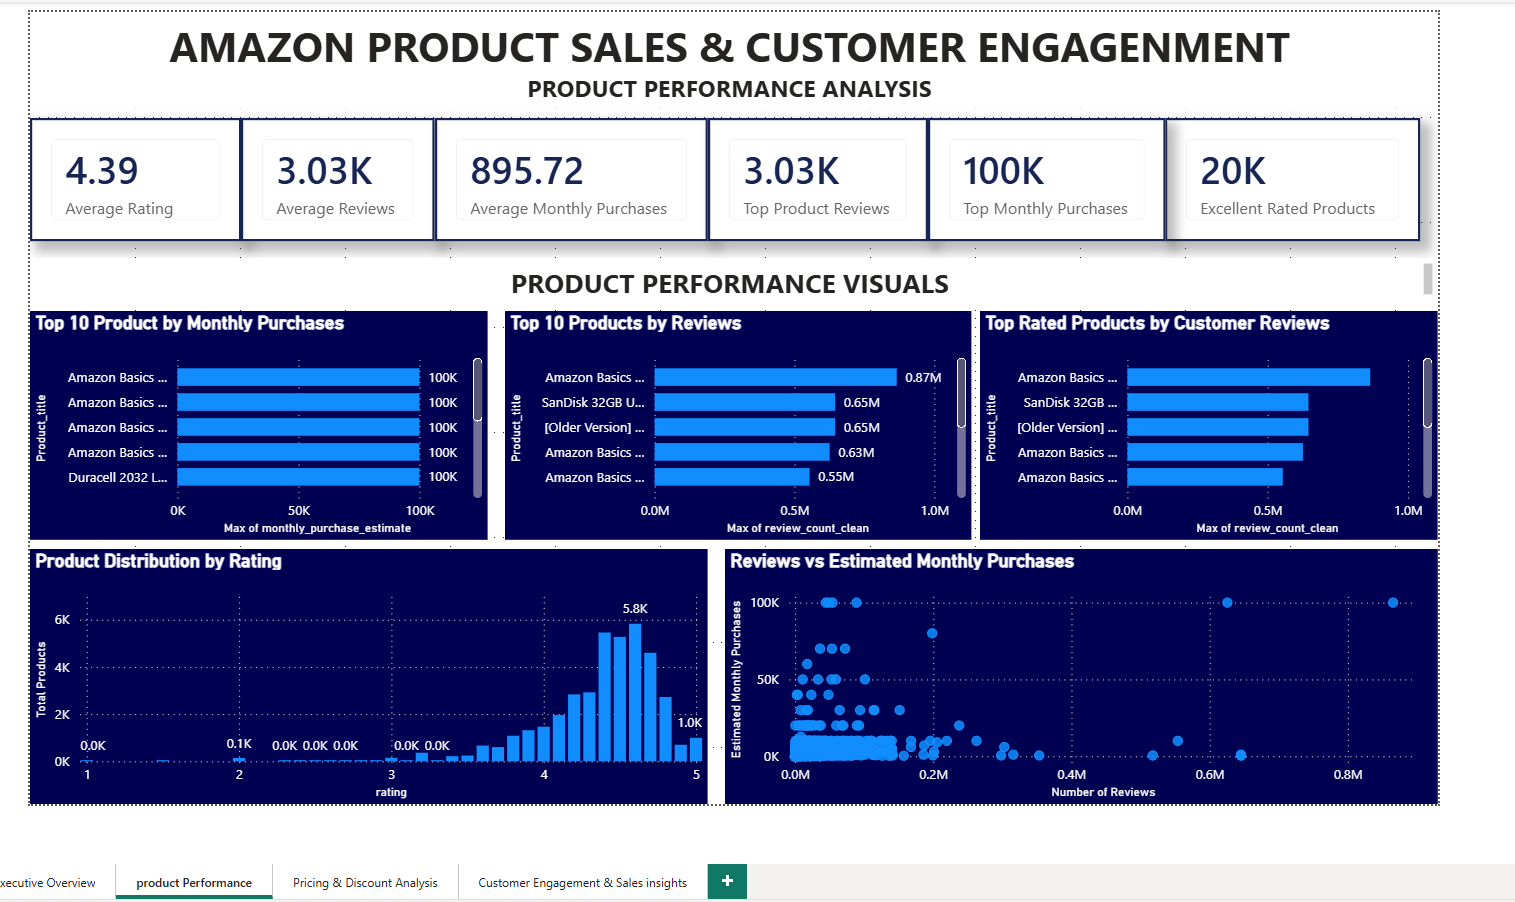

The dashboard page shown, as its layout file describes it:
{"tool":"powerbi","page":{"name":"product Performance ","canvas":[1280,720],"ordinal":1},"visuals":[{"type":"cardVisual","fields":{"Data":["Final clean sheet.Average Rating"]},"box":[0,96,192,112],"z":0},{"type":"cardVisual","fields":{"Data":["Final clean sheet.Average Reviews"]},"box":[192,96,176,112],"z":1000},{"type":"cardVisual","fields":{"Data":["Final clean sheet.Average Monthly Purchases"]},"box":[368,96,248,112],"z":2000},{"type":"cardVisual","fields":{"Data":["Final clean sheet.Top Product Reviews"]},"box":[616,96,200,112],"z":3000},{"type":"cardVisual","fields":{"Data":["Final clean sheet.Excellent Rated Products"]},"box":[1032,96,232,112],"z":4000},{"type":"cardVisual","fields":{"Data":["Final clean sheet.Top Monthly Purchases"]},"box":[816,96,216,112],"z":5000},{"type":"textbox","box":[0,0,1272,88],"z":6000},{"type":"textbox","box":[0,224,1280,40],"z":7000},{"type":"clusteredBarChart","title":"Top 10 Product by Monthly Purchases","fields":{"Category":["Final clean sheet.Product_title"],"Y":["Max(Final clean sheet.monthly_purchase_estimate)"]},"box":[0,272,416,208],"z":8000},{"type":"clusteredBarChart","title":"Top 10 Products by Reviews","fields":{"Category":["Final clean sheet.Product_title"],"Y":["Max(Final clean sheet.review_count_clean)"]},"box":[432,272,424,208],"z":9000},{"type":"clusteredColumnChart","title":"Product Distribution by Rating","fields":{"Category":["Final clean sheet.rating"],"Y":["Final clean sheet.Total Products"]},"box":[0,488,616,232],"z":10000},{"type":"scatterChart","title":"Reviews vs Estimated Monthly Purchases","fields":{"X":["Avg(Final clean sheet.review_count_clean)"],"Y":["Avg(Final clean sheet.monthly_purchase_estimate)"],"Category":["Final clean sheet.product_url"]},"box":[632,488,648,232],"z":11000},{"type":"barChart","title":"Top Rated Products by Customer Reviews","fields":{"Category":["Final clean sheet.Product_title"],"Y":["Max(Final clean sheet.review_count_clean)"]},"box":[864,272,416,208],"z":12000}]}

Visuals, with their boxes on the page's 1280x720 design canvas (x1, y1, x2, y2). These are canvas units, not pixel positions in the 1515x902 screenshot, which may show the page scaled, cropped or inside an application window:
cardVisual - Final clean sheet.Average Rating: locate(0, 96, 192, 208)
cardVisual - Final clean sheet.Average Reviews: locate(192, 96, 368, 208)
cardVisual - Final clean sheet.Average Monthly Purchases: locate(368, 96, 616, 208)
cardVisual - Final clean sheet.Top Product Reviews: locate(616, 96, 816, 208)
cardVisual - Final clean sheet.Excellent Rated Products: locate(1032, 96, 1264, 208)
cardVisual - Final clean sheet.Top Monthly Purchases: locate(816, 96, 1032, 208)
textbox: locate(0, 0, 1272, 88)
textbox: locate(0, 224, 1280, 264)
"Top 10 Product by Monthly Purchases" clusteredBarChart: locate(0, 272, 416, 480)
"Top 10 Products by Reviews" clusteredBarChart: locate(432, 272, 856, 480)
"Product Distribution by Rating" clusteredColumnChart: locate(0, 488, 616, 720)
"Reviews vs Estimated Monthly Purchases" scatterChart: locate(632, 488, 1280, 720)
"Top Rated Products by Customer Reviews" barChart: locate(864, 272, 1280, 480)
